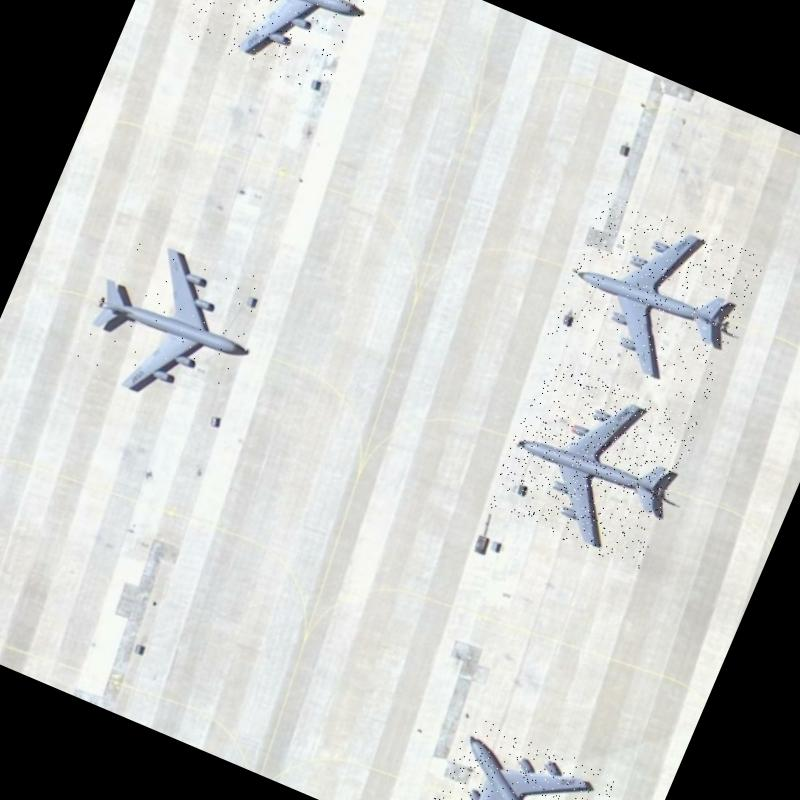A14: (544, 191, 766, 407), (57, 217, 275, 434), (485, 356, 702, 572), (175, 0, 385, 97), (416, 713, 619, 800)
